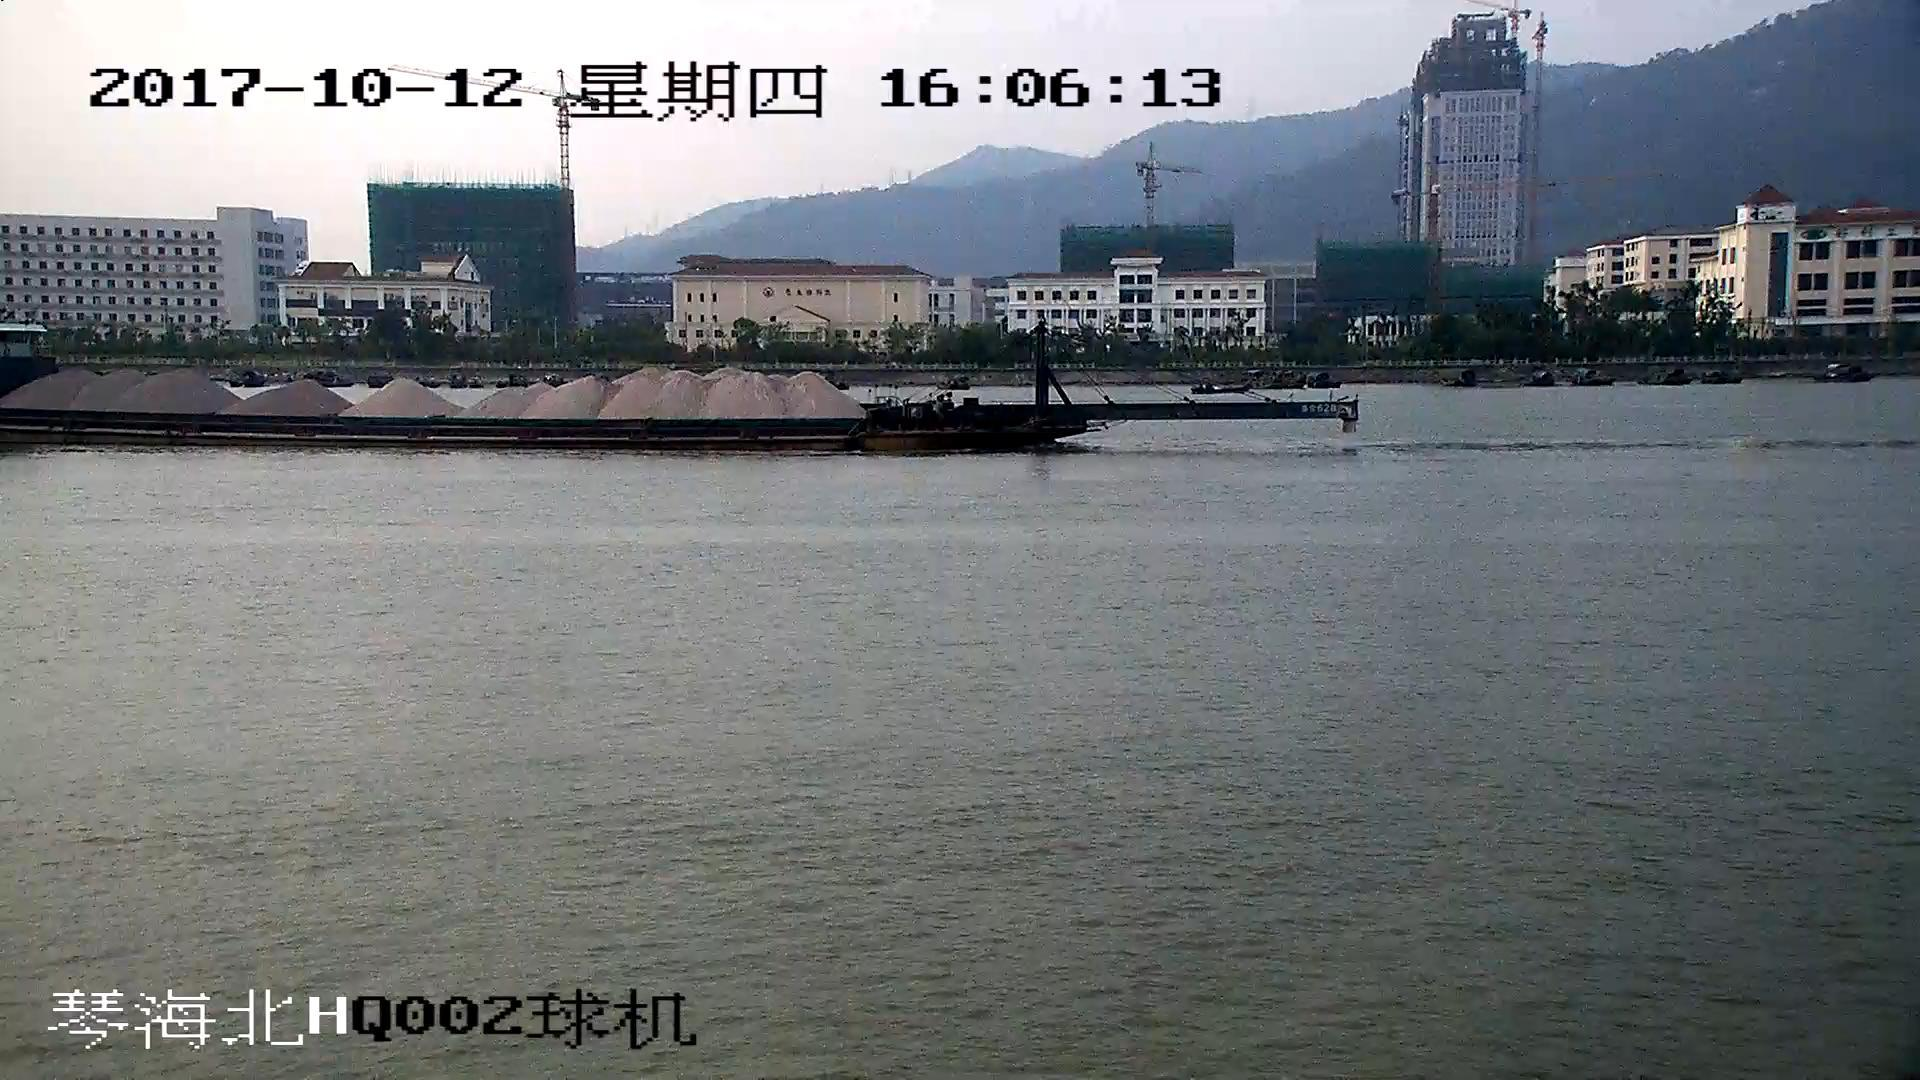Ship: (3, 320, 1357, 451)
